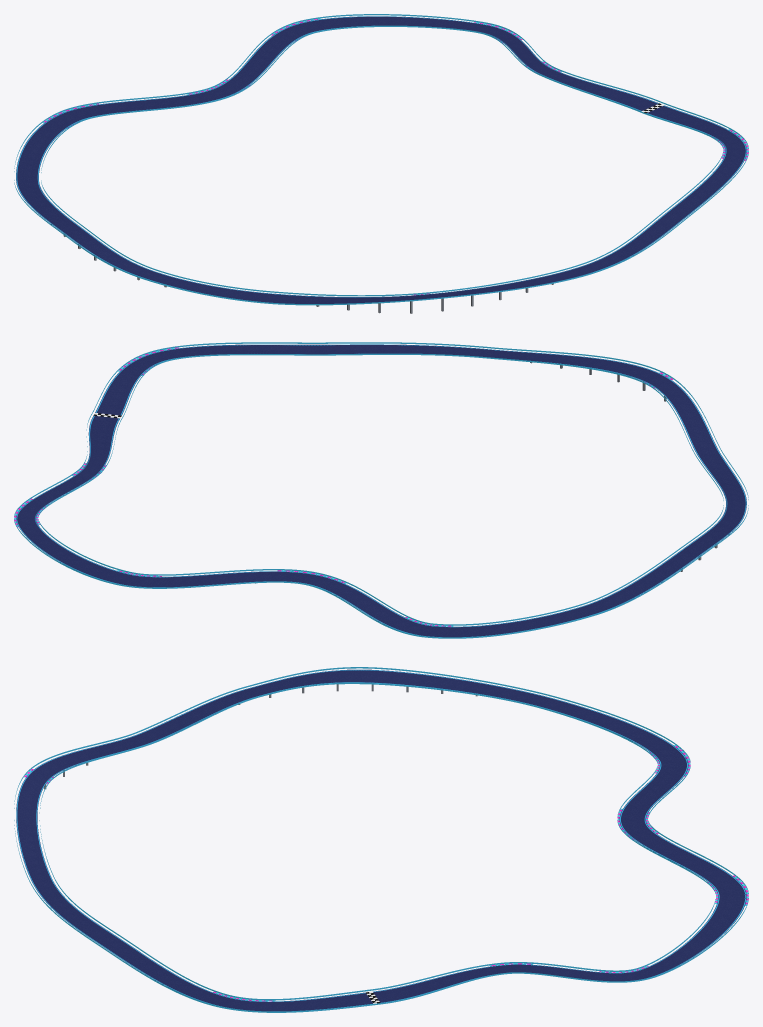
The model's file is track_neon.glb.
3 views of the same model, one above another, from view 1: azimuth 30°, elevation 25°; view 2: azimuth 150°, elevation 25°; view 3: azimuth 270°, elevation 25° (orthographic). The views are drawn at different scales.
Visible parts, largest first — view 1: Road, Walls, Curbs; view 2: Road, Walls, Curbs; view 3: Road, Walls, Curbs.
Part boxes in pixels (x1,y1,x2,y2): Road: (16, 16, 746, 303); Walls: (14, 14, 748, 305); Curbs: (43, 18, 748, 295); Road: (16, 344, 746, 637); Walls: (14, 342, 748, 638); Curbs: (14, 347, 673, 626); Road: (16, 669, 746, 1011); Walls: (14, 667, 748, 1012); Curbs: (24, 745, 748, 1001).
Size of what is drawn, in the model's own units: 495 by 14.43 by 463.
Materials: 5 (3 with a texture image).
